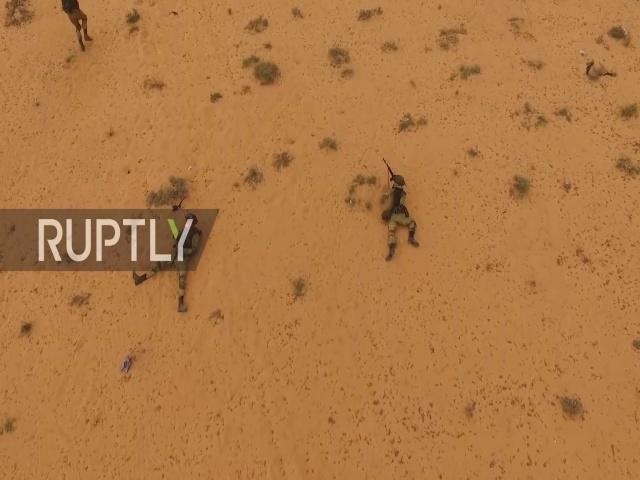person: (380, 157, 420, 264), (63, 1, 93, 51)
